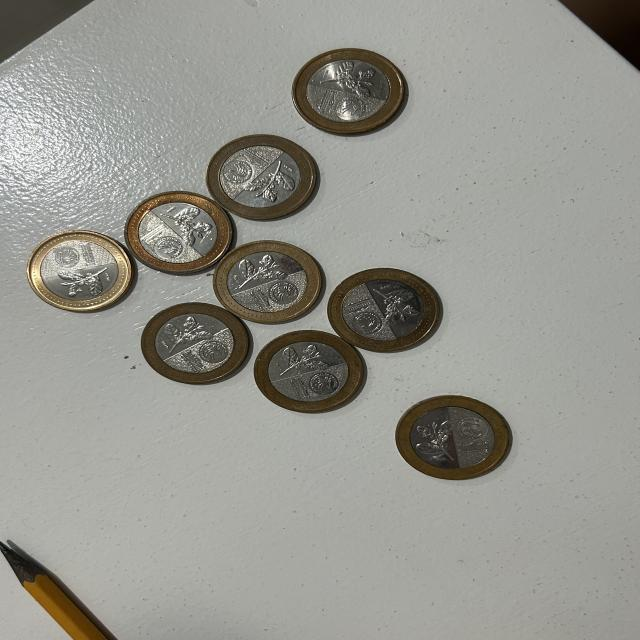20_New_Back: (242, 158, 294, 202), (319, 62, 382, 97), (159, 207, 215, 246), (373, 286, 423, 329), (57, 266, 115, 302), (415, 419, 458, 464), (160, 315, 210, 349), (274, 344, 332, 373), (238, 254, 288, 286)
